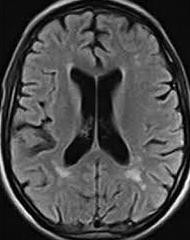Normal_Brain: (1, 2, 190, 240)
